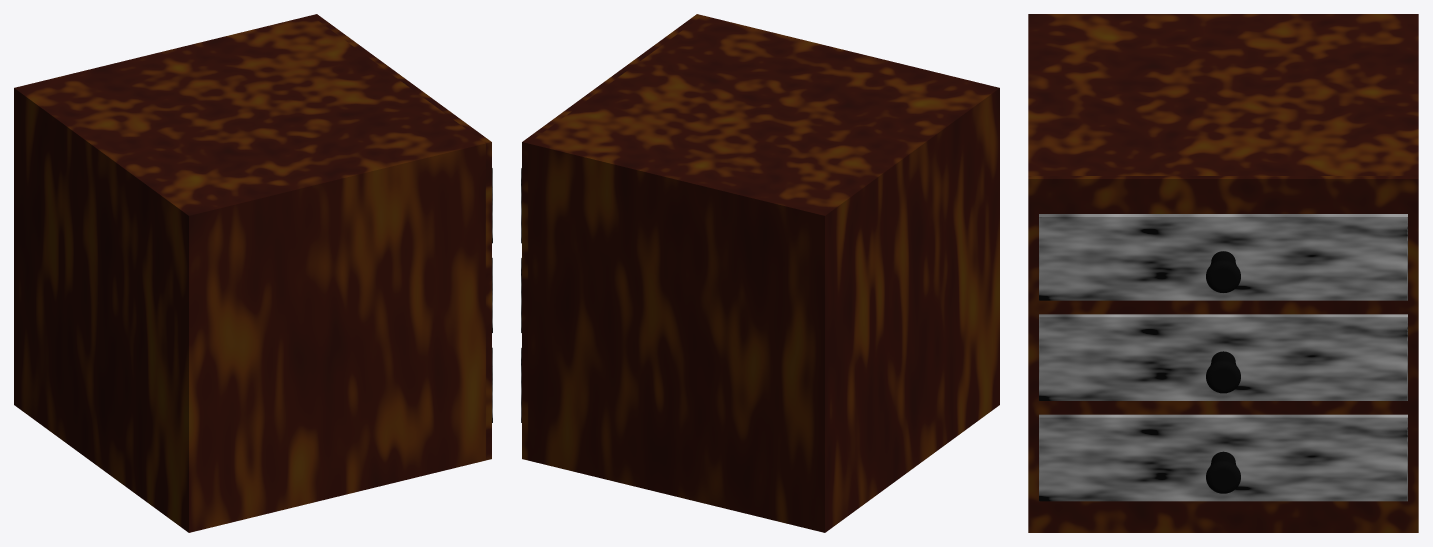
3 renders of one model, left to right at view 1: azimuth 30°, elevation 25°; view 2: azimuth 150°, elevation 25°; view 3: azimuth 270°, elevation 25°, orthographic. The views are drawn at different scales.
Visible parts, largest first — view 1: Cube; view 2: Cube; view 3: Cube, Cube.003, Cube.001, Cube.002.
Part boxes in pixels (x1,y1,x2,y2): Cube: [14, 14, 491, 532]; Cube: [522, 14, 999, 532]; Cube: [1028, 14, 1418, 532]; Cube.003: [1039, 414, 1407, 501]; Cube.001: [1039, 214, 1407, 300]; Cube.002: [1039, 314, 1407, 400].
Size of the model in its own units: 238 by 212 by 212.
3 materials, 2 textured.
